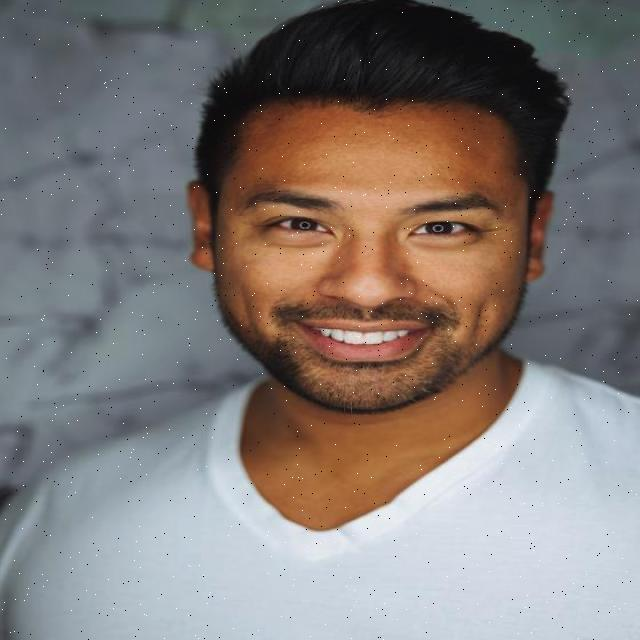puffy_eyes: (406, 234, 485, 250), (257, 233, 326, 249)
